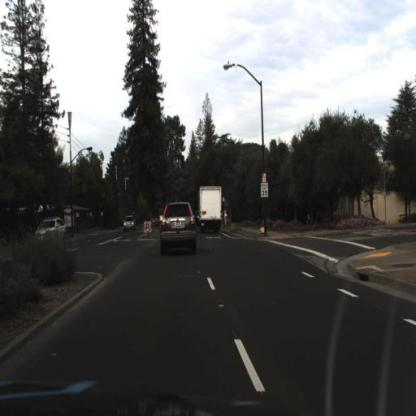car: (156, 192, 200, 263), (194, 178, 230, 241), (31, 213, 67, 247), (123, 212, 137, 234)
truck: (198, 182, 224, 231)
